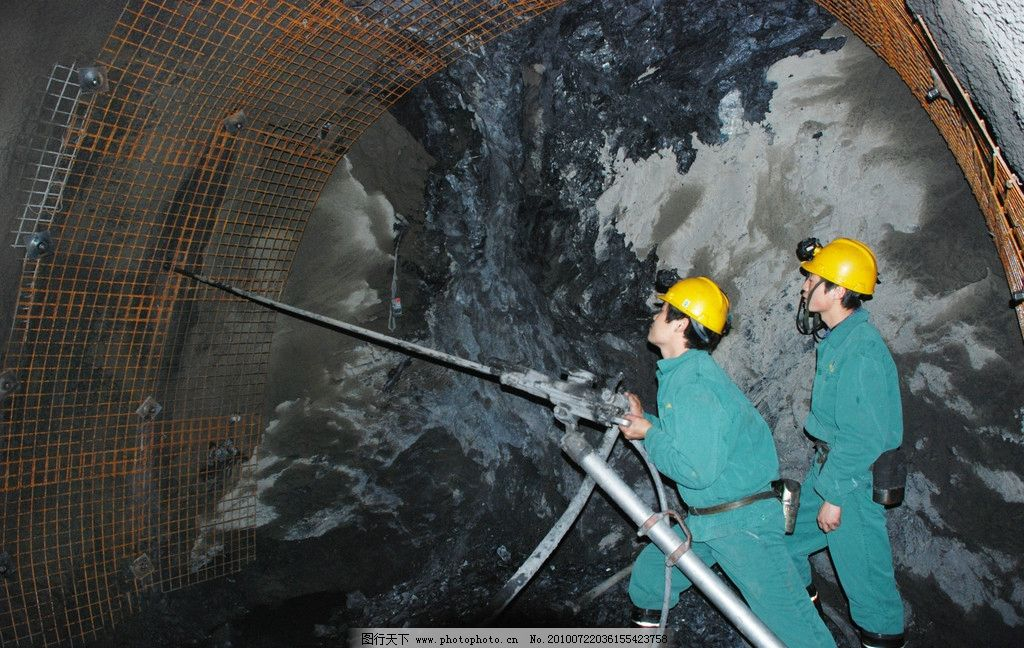helmet: (799, 235, 891, 326), (644, 261, 739, 346)
